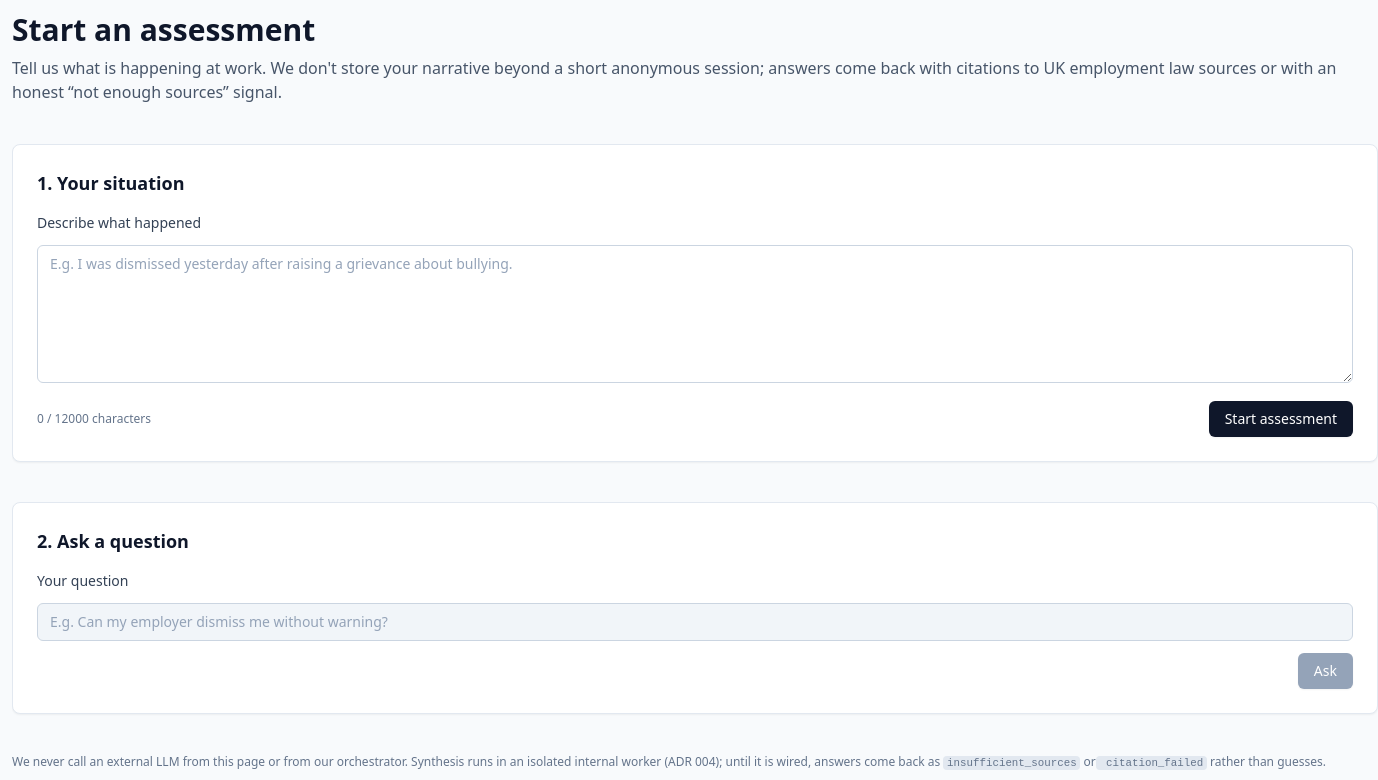
/case/assessment page › rejects a too-short narrative client-side
This screenshot has width=1378, height=780.
Replace the text in the text box labelled "Describe what happened" with "short" at (695, 314), box [37,245,1353,383]
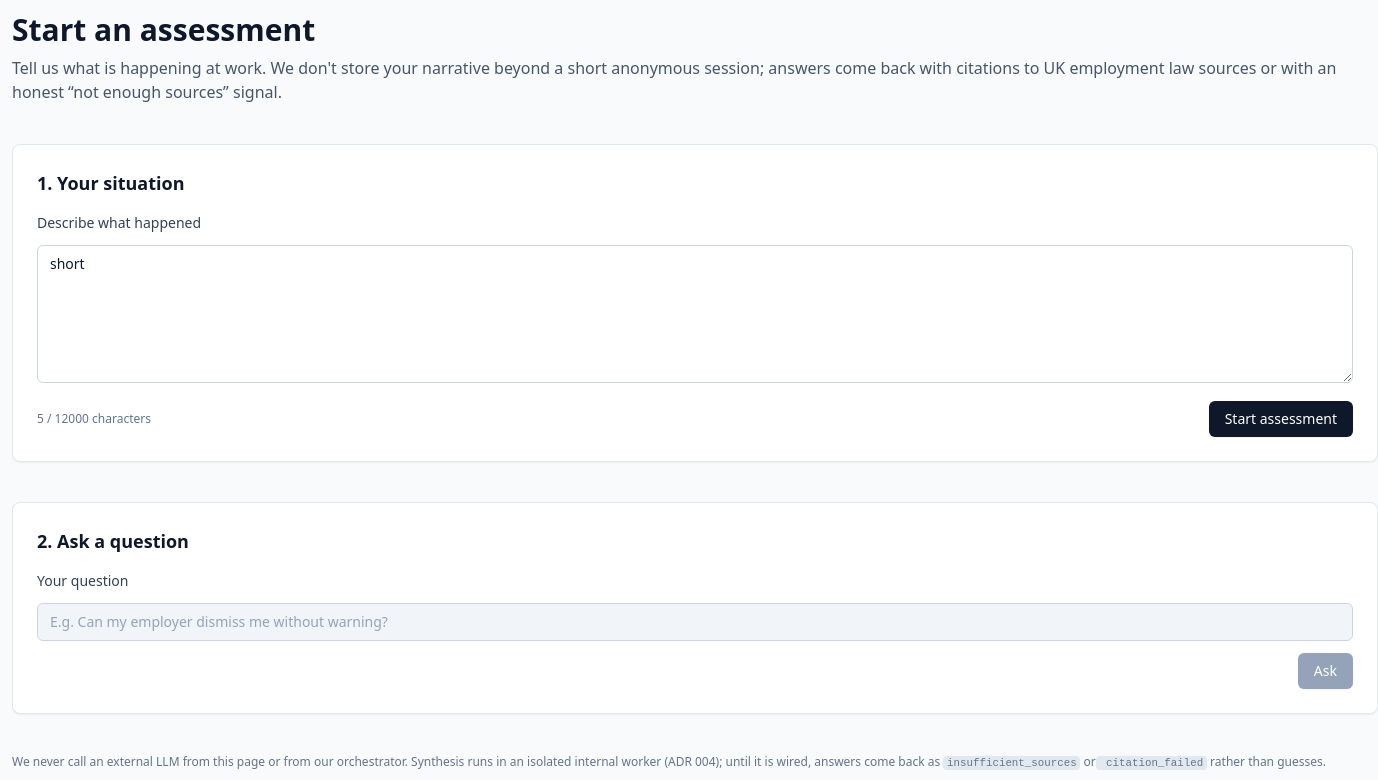
Submit the form labelled "Describe what happened 5 / 12000 characters Start assessment", box [37,213,1353,437]
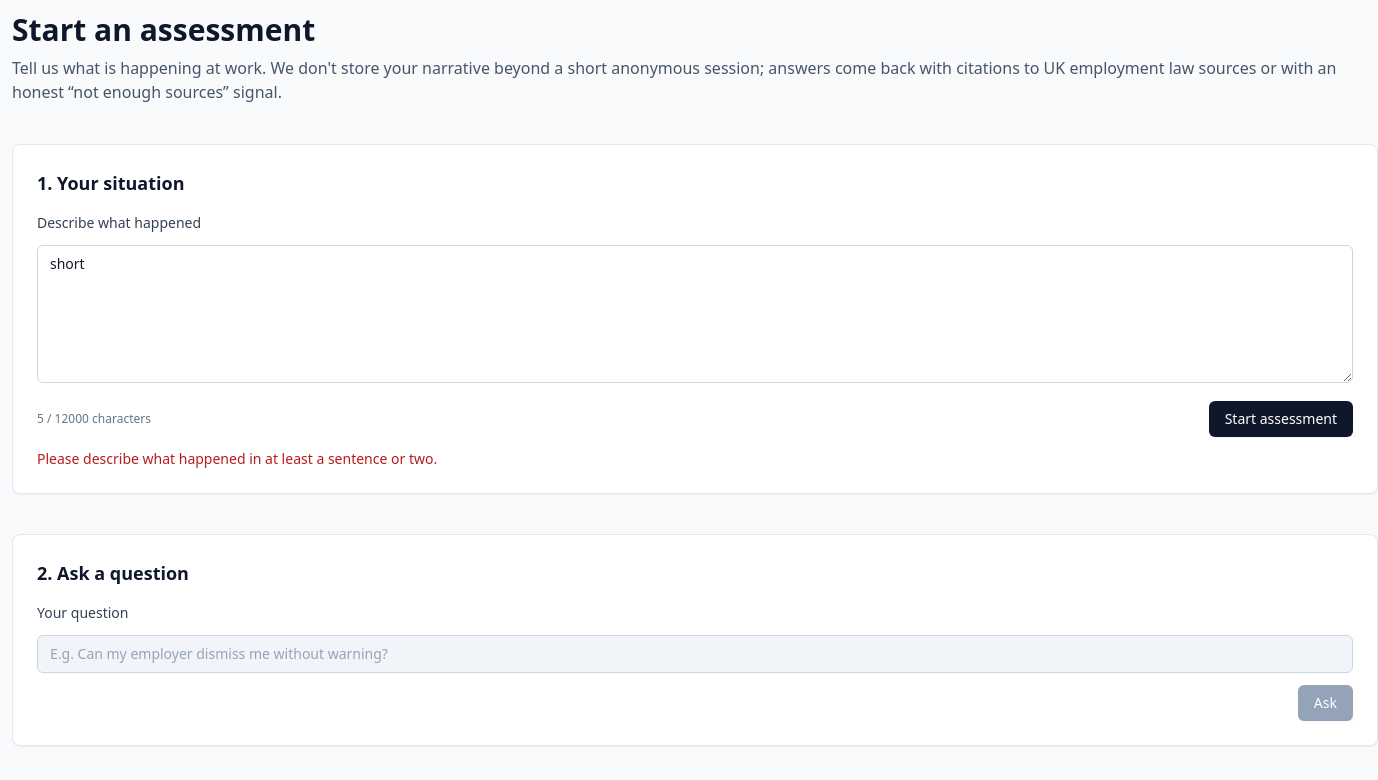
Result: the message shows "at least a sentence" at [37,449,437,468]
